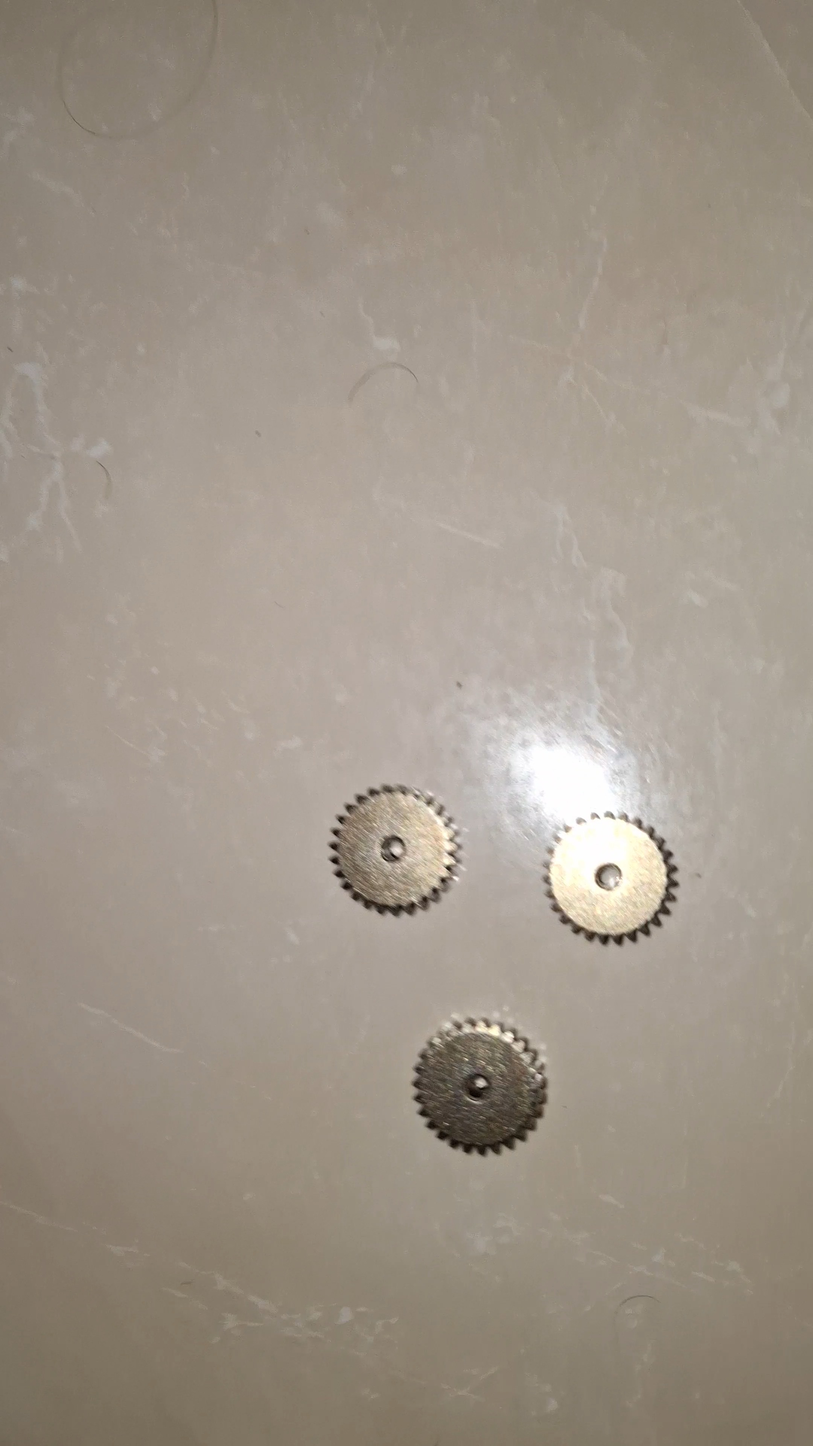spur gear: (414, 1019, 546, 1154), (545, 813, 677, 943), (331, 786, 458, 914)
